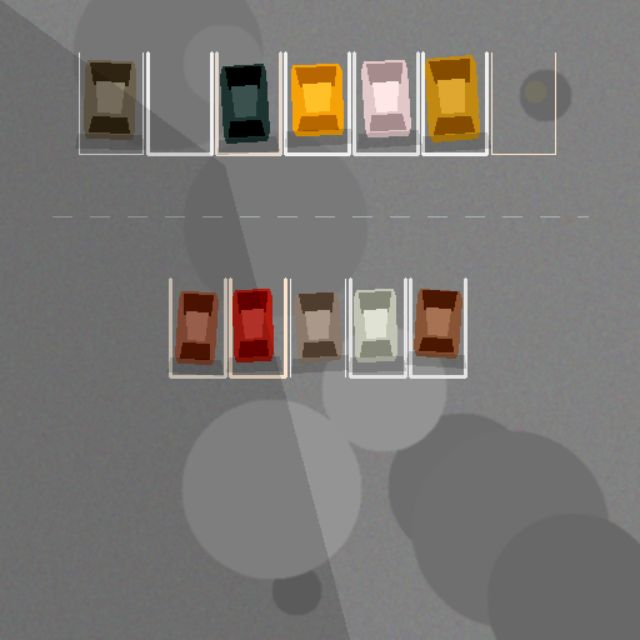space-empty: (147, 53, 211, 154), (491, 53, 555, 154)
space-occupied: (79, 53, 143, 154), (216, 53, 280, 154), (285, 53, 349, 154), (354, 53, 417, 154), (423, 53, 486, 154), (170, 279, 225, 376), (230, 279, 285, 376), (290, 279, 345, 376), (350, 279, 405, 376), (410, 279, 465, 376)
